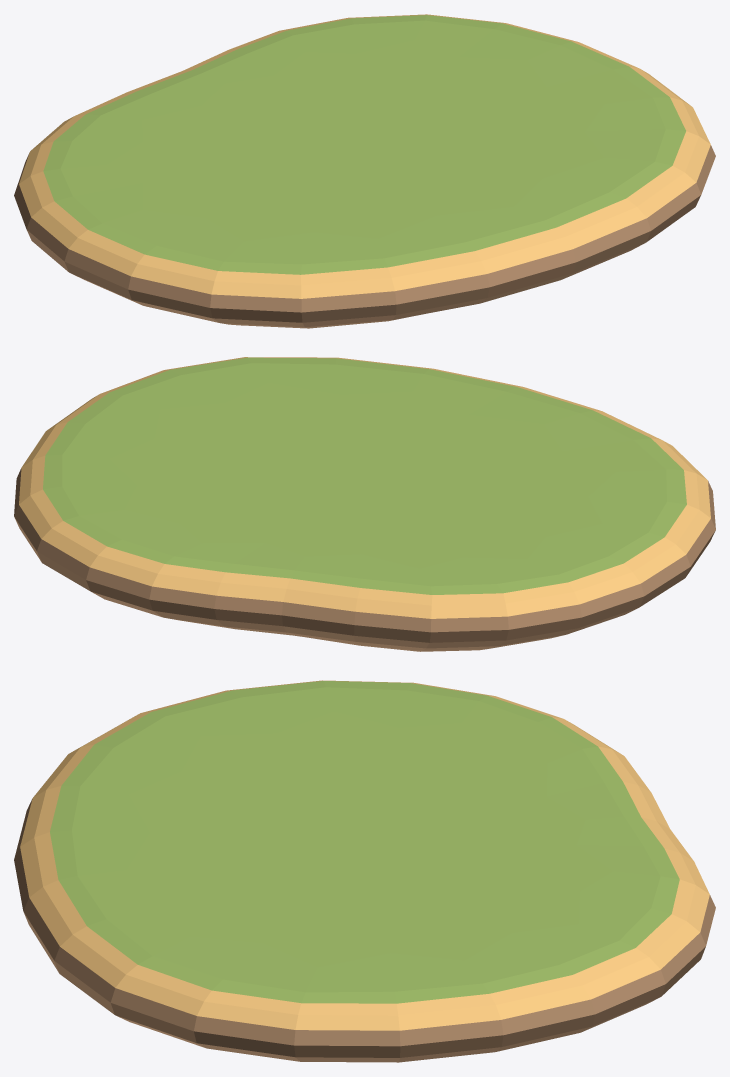
Rendered from main_island.fbx.
The picture shows the model from 3 angles, top to bottom: view 1: azimuth 30°, elevation 25°; view 2: azimuth 150°, elevation 25°; view 3: azimuth 270°, elevation 25°; orthographic projection. The views are drawn at different scales.
Visible parts, largest first — view 1: Plane; view 2: Plane; view 3: Plane.
Part boxes in pixels (<box>): Plane: <box>14,14,715,328</box>; Plane: <box>14,357,715,651</box>; Plane: <box>14,680,715,1062</box>.
Bounding box in the file's own units: 30.9 × 26.11 × 4.71.
